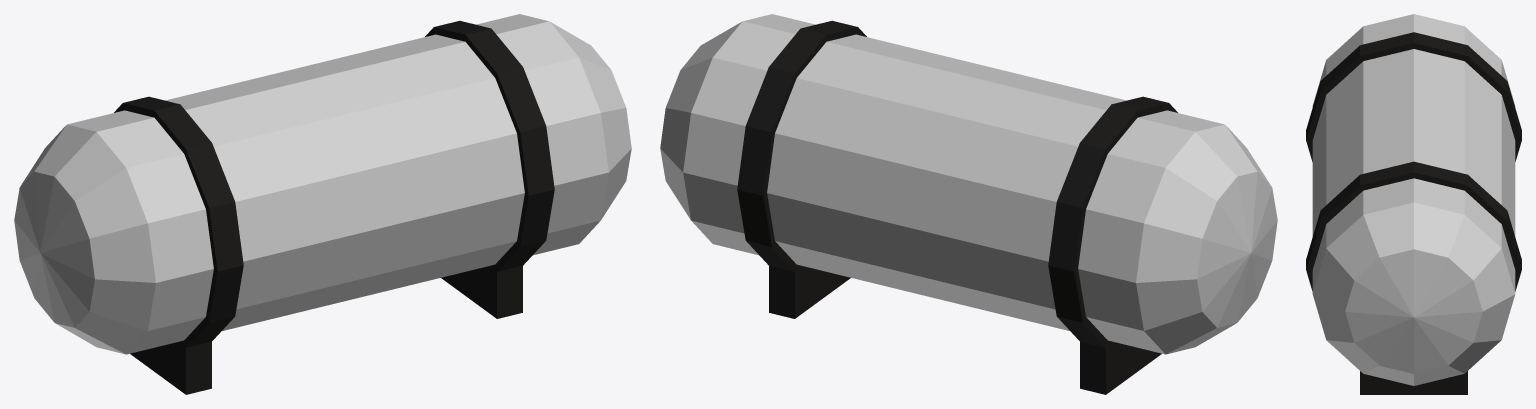
Rendered from fueltank.fbx.
The picture shows the model from 3 angles, left to right: view 1: azimuth 30°, elevation 25°; view 2: azimuth 150°, elevation 25°; view 3: azimuth 270°, elevation 25°; orthographic projection. The views are drawn at different scales.
Visible parts, largest first — view 1: Fuel; view 2: Fuel; view 3: Fuel.
Boxes of the visible parts, <box> form: Fuel: <box>14,14,631,394</box>; Fuel: <box>660,14,1277,394</box>; Fuel: <box>1306,14,1521,394</box>.
Size of the model in its own units: 5.49 by 2.42 by 2.13.
